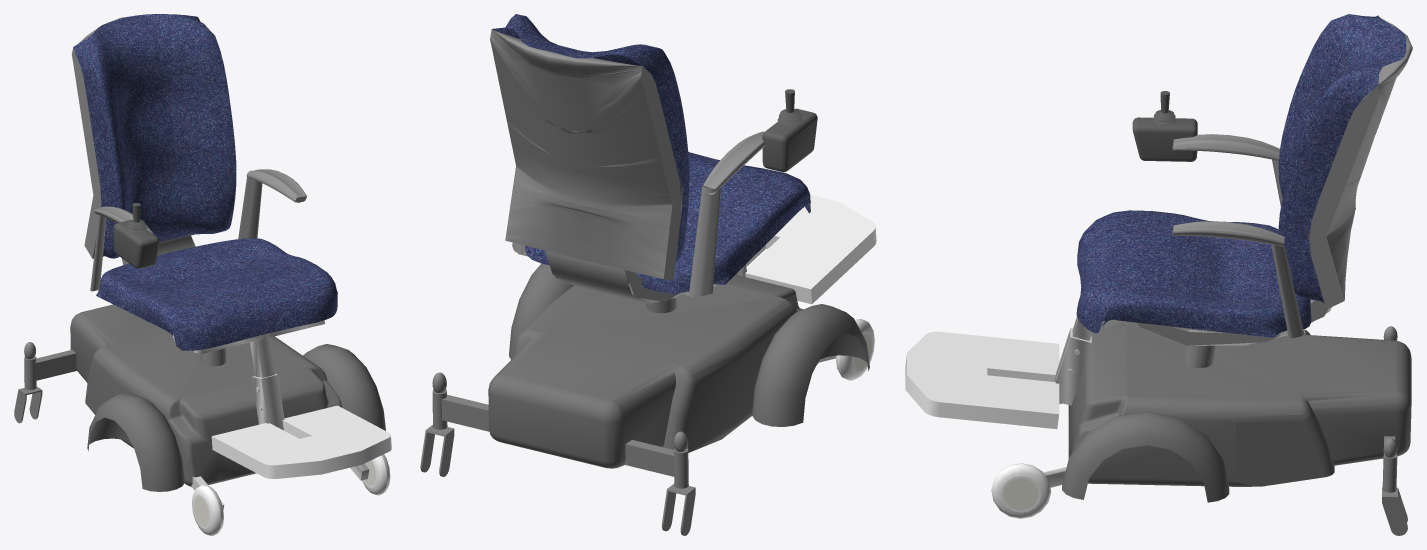
The model's file is eWheel2.fbx.
3 renders of one model, left to right at view 1: azimuth 30°, elevation 25°; view 2: azimuth 150°, elevation 25°; view 3: azimuth 270°, elevation 25°, orthographic. The views are drawn at different scales.
Parts seen in each view (by area): view 1: Mesh52; view 2: Mesh52; view 3: Mesh52.
Boxes of the visible parts, box(x1,y1,x2,y2) form: Mesh52: box(14, 14, 391, 535); Mesh52: box(420, 14, 876, 535); Mesh52: box(905, 14, 1412, 535).
Bounding box in the file's own units: 143 × 213 × 226.
